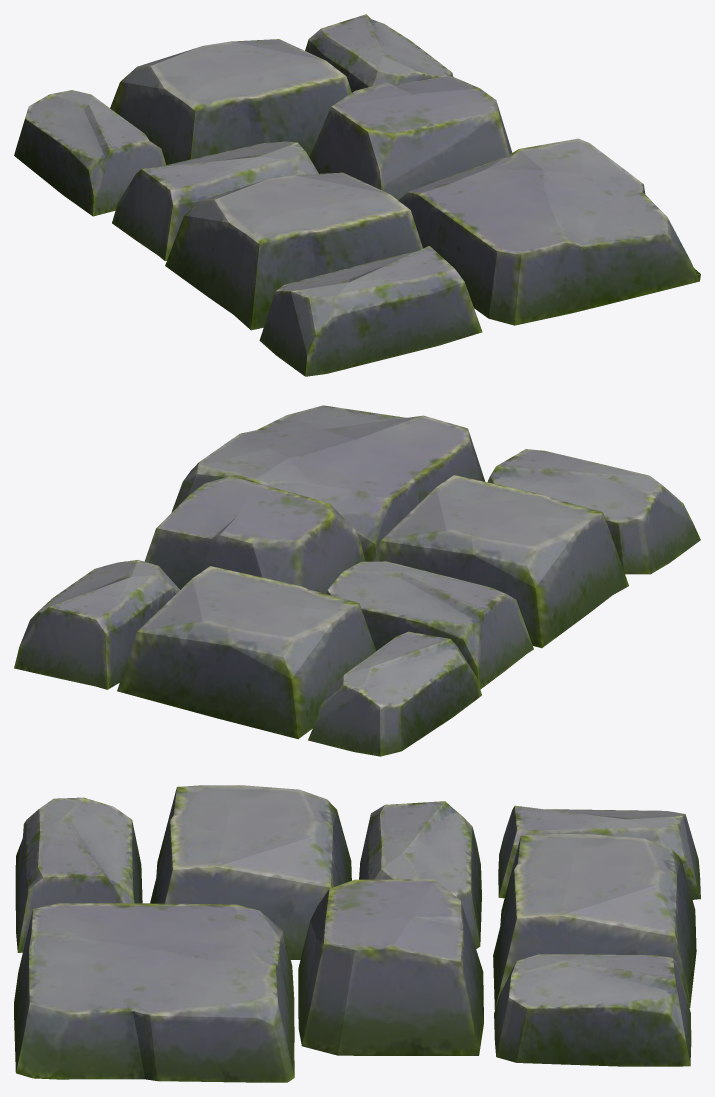
The model's file is rockpath_square_small_3.gltf.
3 renders of one model, top to bottom at view 1: azimuth 30°, elevation 25°; view 2: azimuth 150°, elevation 25°; view 3: azimuth 270°, elevation 25°, orthographic. The views are drawn at different scales.
Parts seen in each view (by area): view 1: RockPath_Square_Small_3; view 2: RockPath_Square_Small_3; view 3: RockPath_Square_Small_3.
Boxes of the visible parts, x1,y1,x2,y2 form: RockPath_Square_Small_3: [14, 14, 700, 376]; RockPath_Square_Small_3: [14, 405, 700, 756]; RockPath_Square_Small_3: [14, 785, 700, 1082].
Size of the model in its own units: 0.8359 by 0.1736 by 1.08.
Materials: 1 (1 with a texture image).
